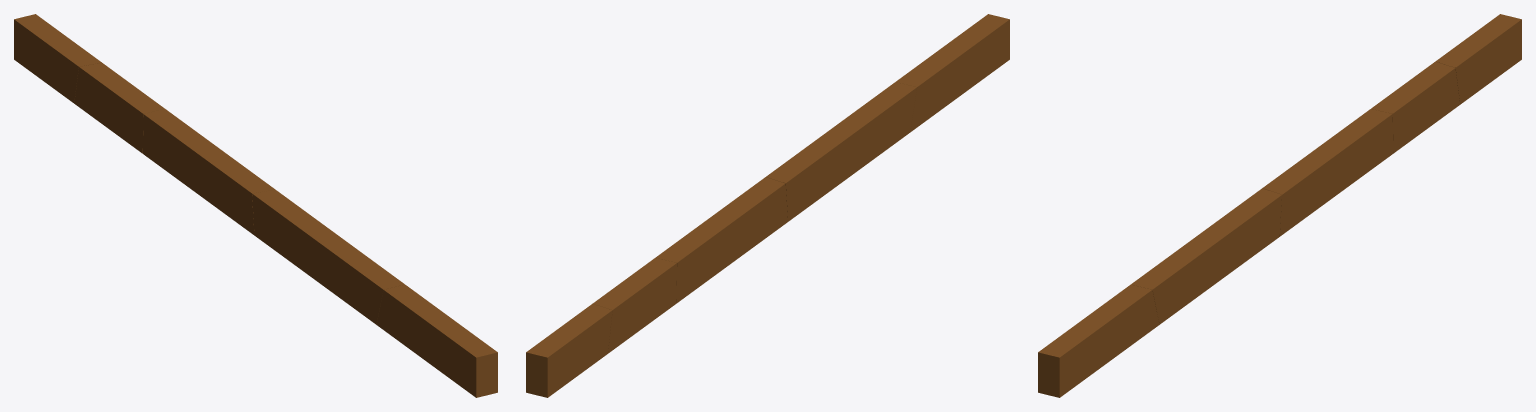
File: Wood.fbx
The picture shows the model from 3 angles, left to right: view 1: azimuth 30°, elevation 25°; view 2: azimuth 150°, elevation 25°; view 3: azimuth 330°, elevation 25°; orthographic projection.
Parts seen in each view (by area): view 1: Cube_cell.001_cell.001, Cube_cell_cell.001, Cube_cell.001_cell, Cube_cell_cell_cell.001, Cube_cell_cell_cell; view 2: Cube_cell.001_cell.001, Cube_cell_cell.001, Cube_cell.001_cell, Cube_cell_cell_cell, Cube_cell_cell_cell.001; view 3: Cube_cell.001_cell.001, Cube_cell_cell.001, Cube_cell.001_cell, Cube_cell_cell_cell, Cube_cell_cell_cell.001.
Boxes of the visible parts, box(x1,y1,x2,y2) form: Cube_cell.001_cell.001: box(252, 189, 404, 324); Cube_cell_cell.001: box(143, 108, 274, 234); Cube_cell.001_cell: box(376, 284, 497, 397); Cube_cell_cell_cell.001: box(74, 62, 164, 153); Cube_cell_cell_cell: box(14, 14, 101, 103); Cube_cell.001_cell.001: box(766, 82, 916, 221); Cube_cell_cell.001: box(655, 177, 787, 303); Cube_cell.001_cell: box(896, 14, 1009, 132); Cube_cell_cell_cell: box(526, 304, 612, 397); Cube_cell_cell_cell.001: box(592, 258, 676, 353); Cube_cell.001_cell.001: box(1131, 188, 1281, 324); Cube_cell_cell.001: box(1262, 109, 1393, 236); Cube_cell.001_cell: box(1038, 284, 1159, 397); Cube_cell_cell_cell: box(1435, 14, 1521, 104); Cube_cell_cell_cell.001: box(1371, 61, 1460, 153).
Size of the model in its own units: 24.86 by 44.18 by 918.
